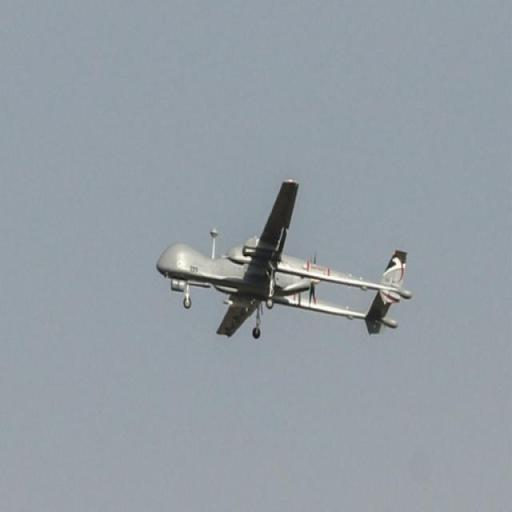uav: (154, 168, 420, 364)
